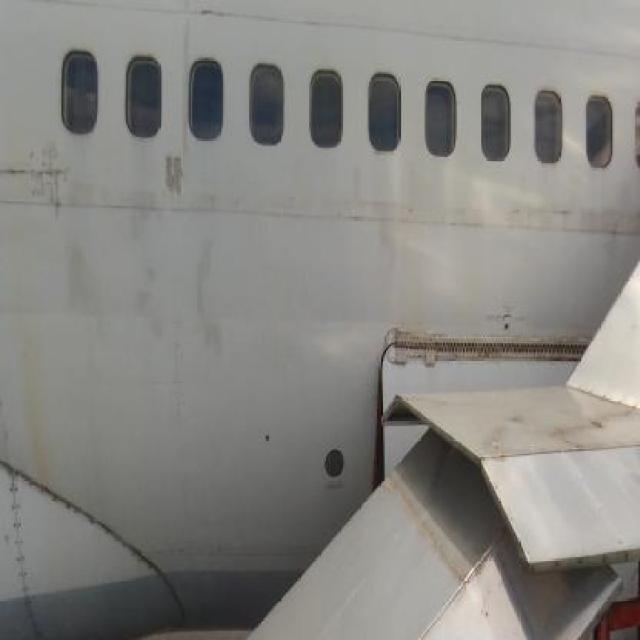Rust: (22, 260, 56, 498)
Scartch: (18, 146, 80, 217), (156, 144, 181, 222)
